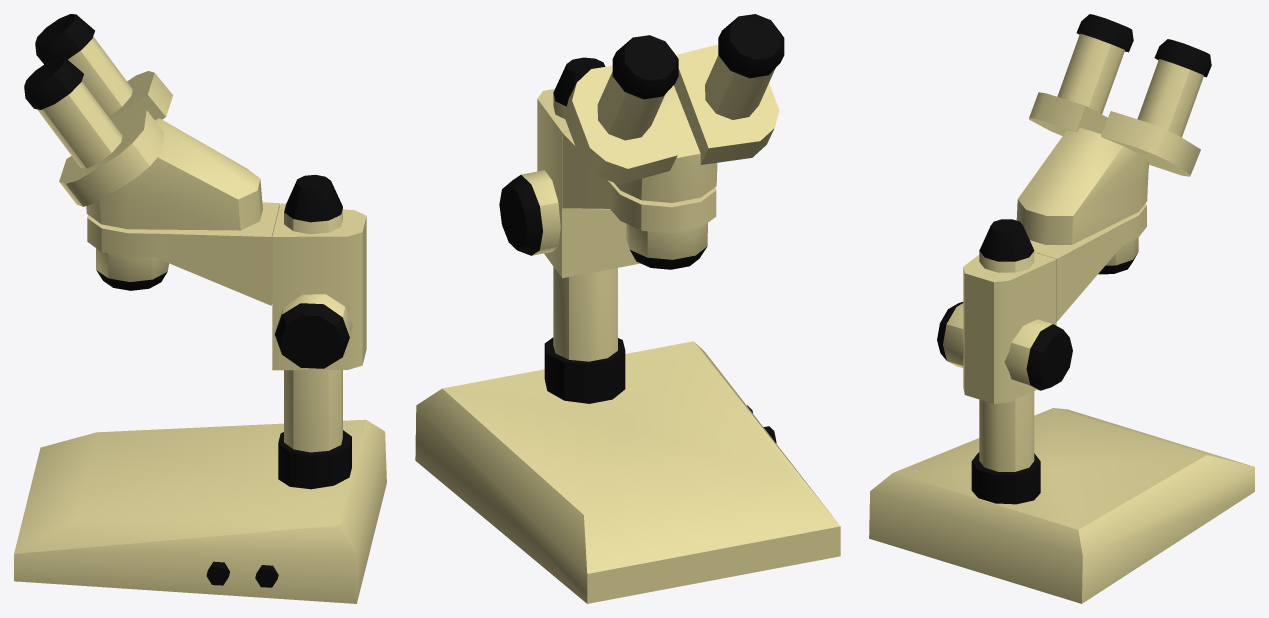
Rendered from MIKROSKOP.fbx.
3 renders of one model, left to right at view 1: azimuth 30°, elevation 25°; view 2: azimuth 150°, elevation 25°; view 3: azimuth 270°, elevation 25°, orthographic. The views are drawn at different scales.
Parts seen in each view (by area): view 1: MICROSKOPE; view 2: MICROSKOPE; view 3: MICROSKOPE.
Part boxes in pixels (bbox=[...]): MICROSKOPE: bbox=[14, 14, 386, 603]; MICROSKOPE: bbox=[415, 14, 840, 603]; MICROSKOPE: bbox=[869, 14, 1254, 603].
Size of the model in its own units: 143 by 176 by 138.
